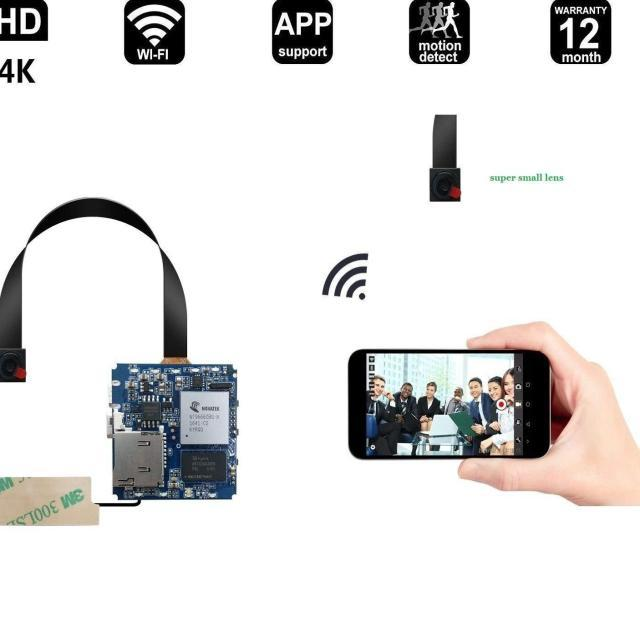hidden camera: (430, 165, 463, 204), (0, 348, 30, 383)
